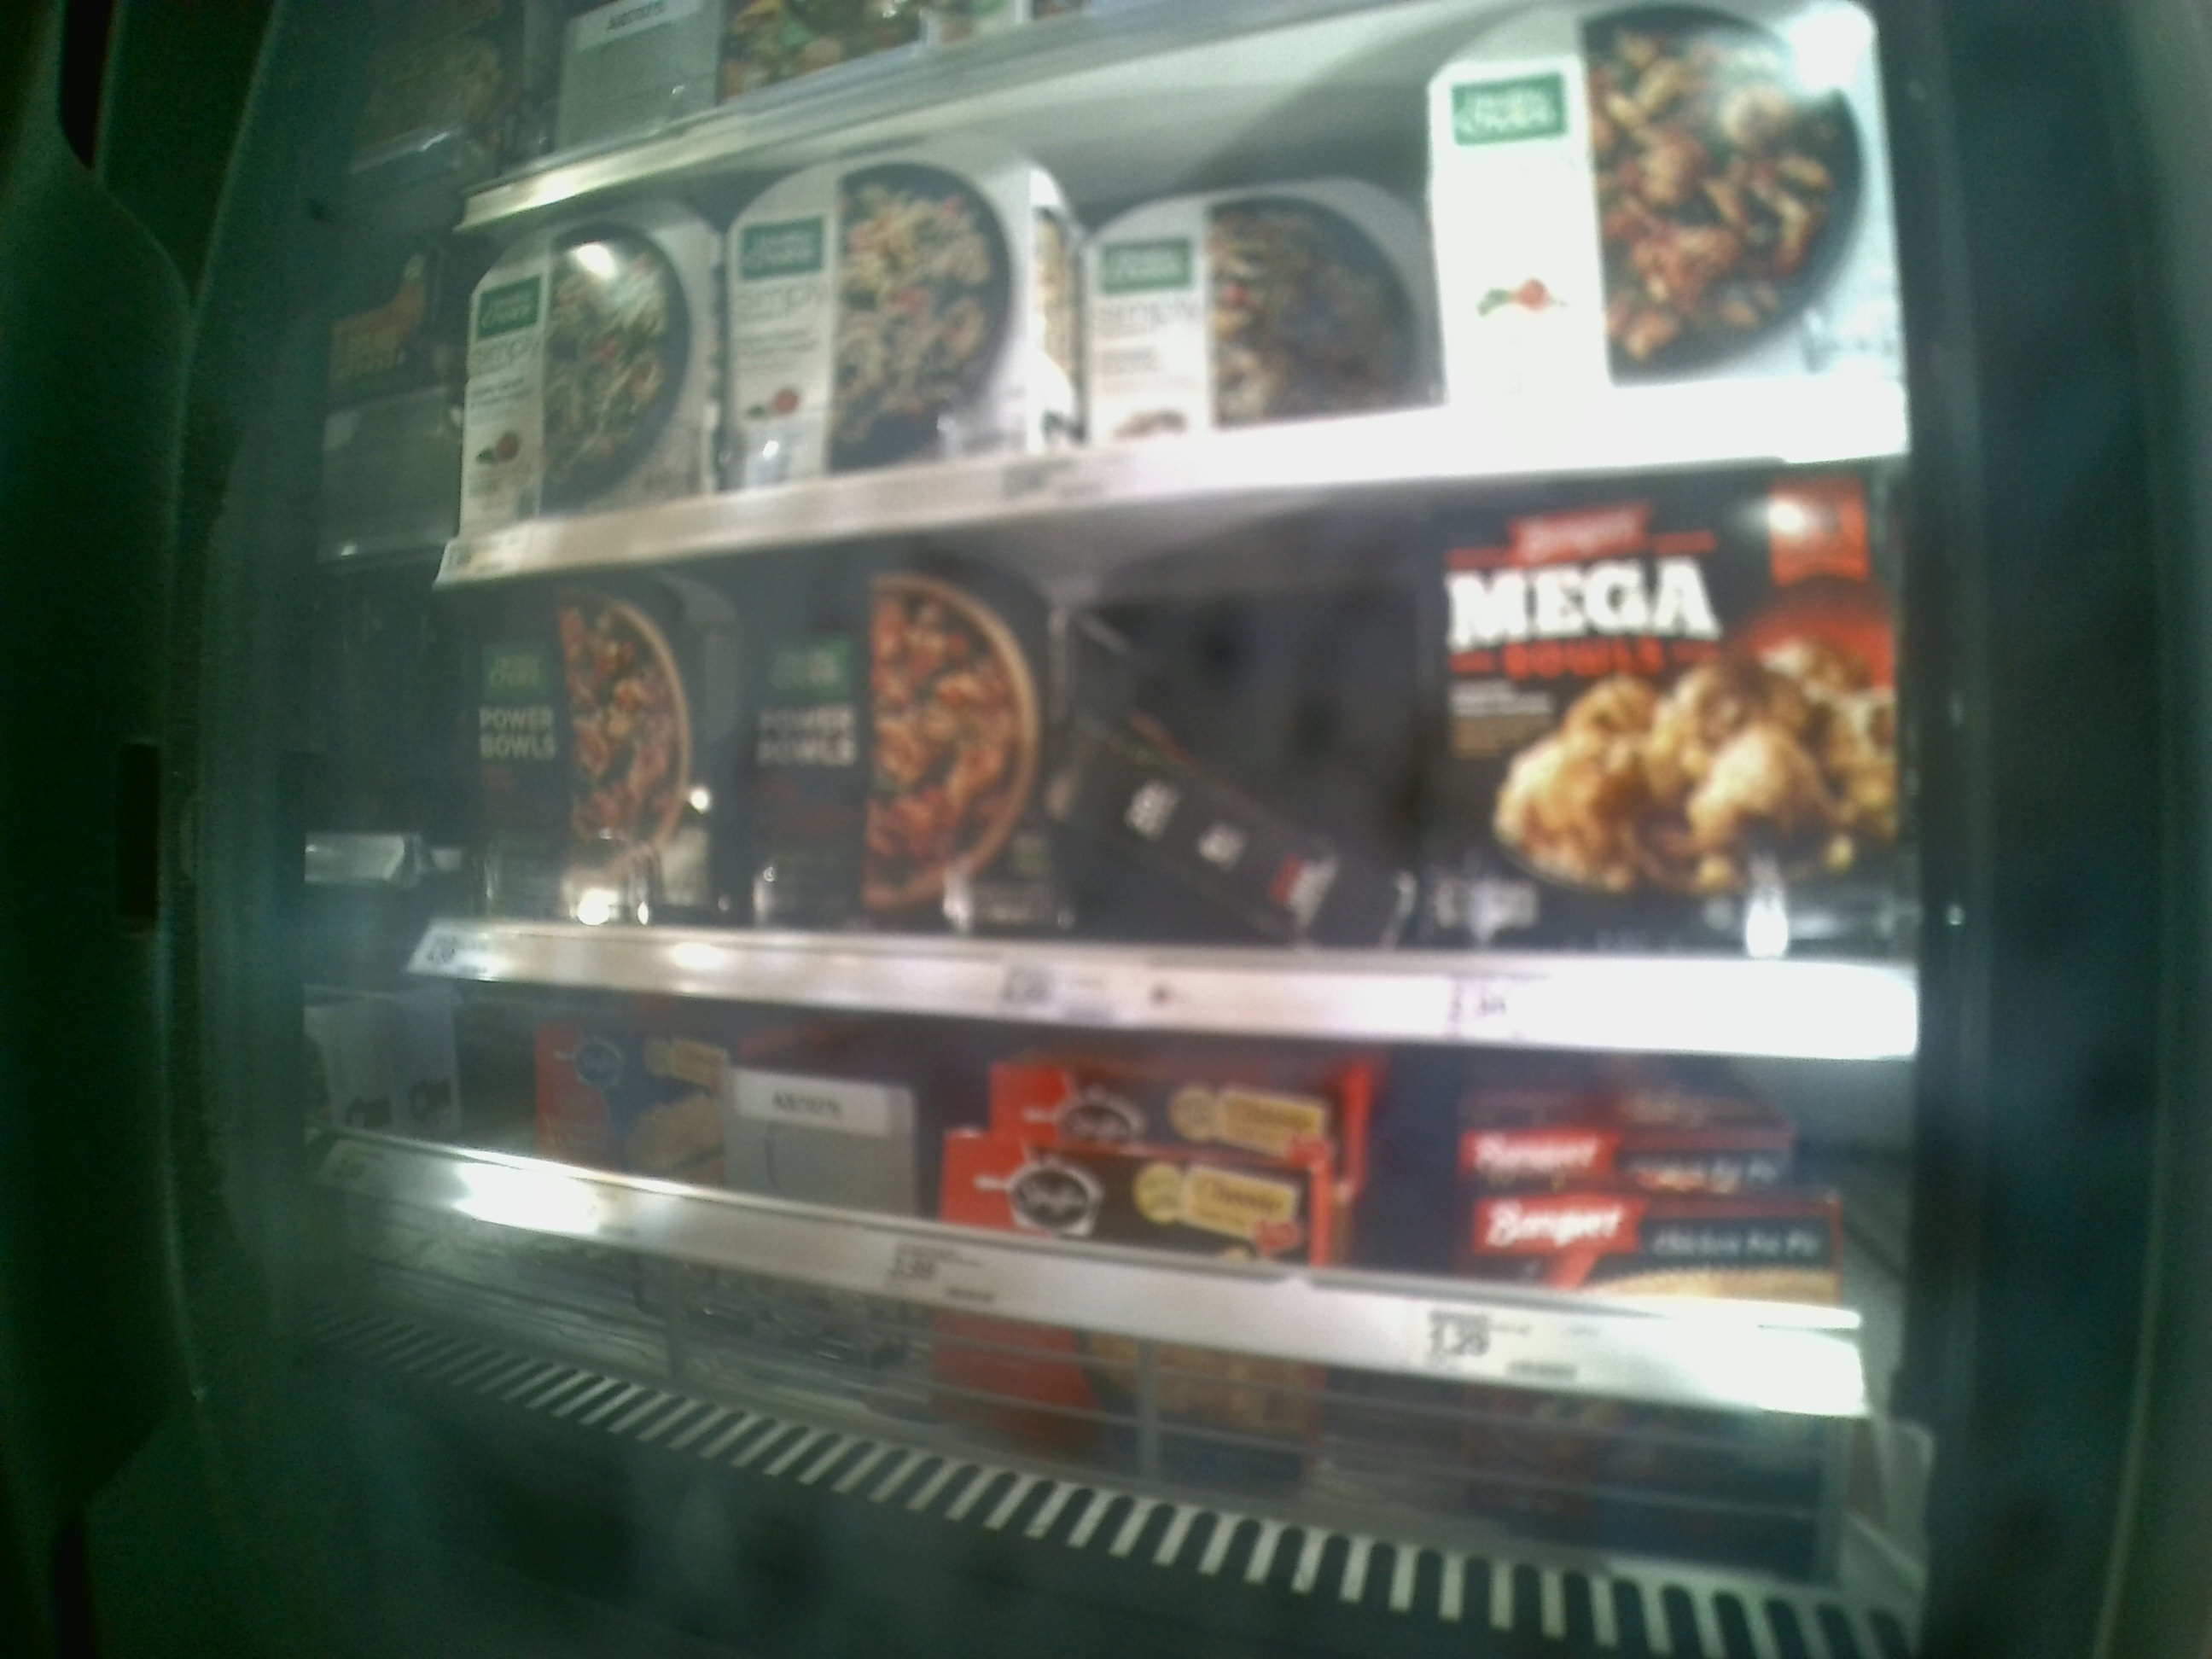shelf: (432, 465, 1921, 1068)
